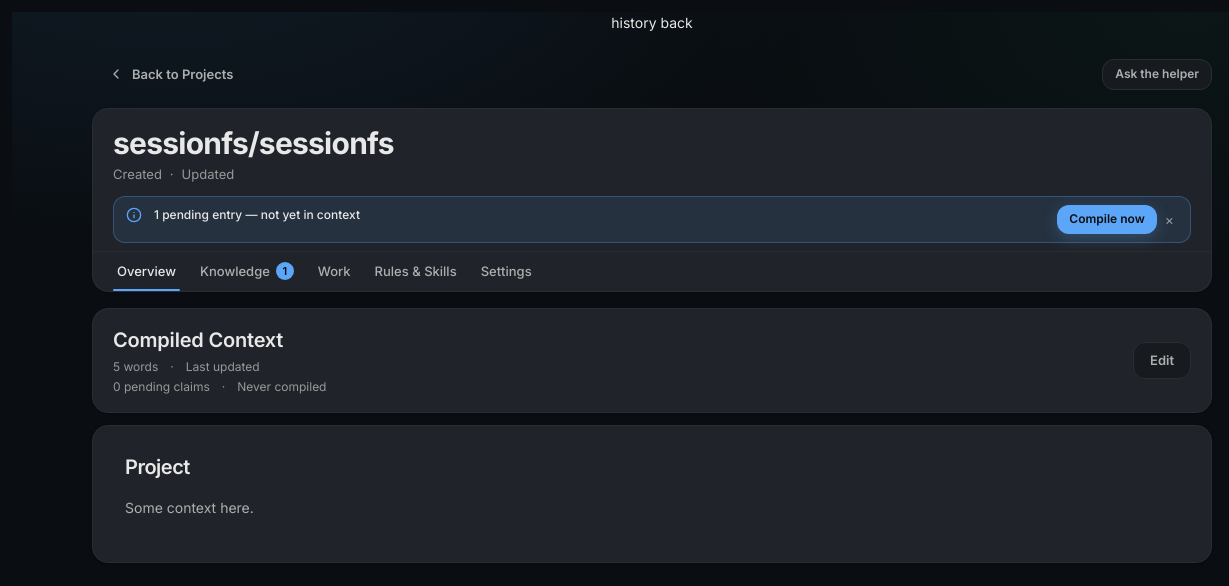
Test case: ProjectDetail › switching to the Knowledge section loads the knowledge entries view
The image size is (1229, 586).
Click the tab "Knowledge 1" at (247, 271), box [196,252,298,290]
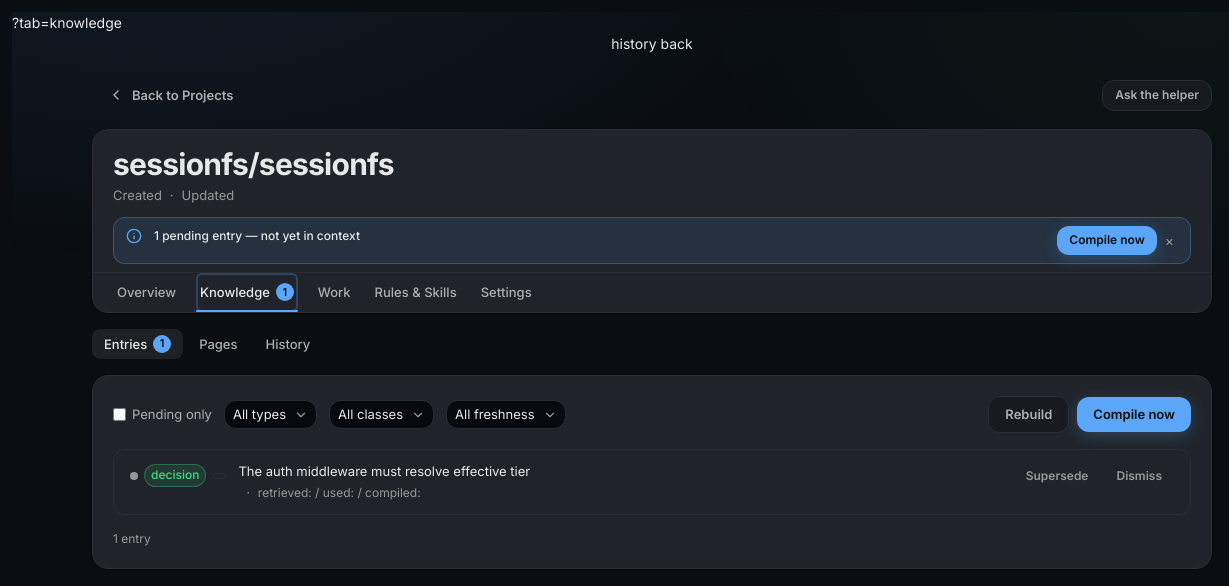
Check: the text "The auth middleware must resolve effective tier" is shown, box [238,463,530,479]
